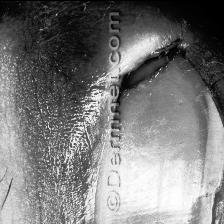Toxin: (90, 46, 224, 224)
